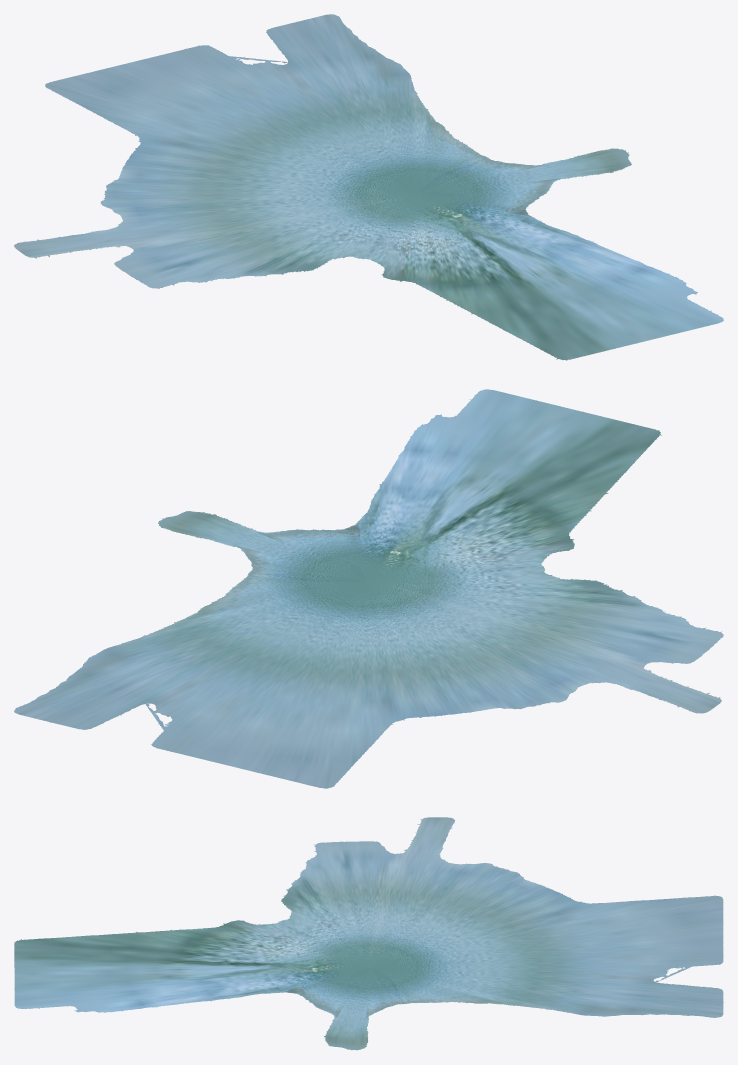
Rendered from water.glb.
3 views of the same model, one above another, from view 1: azimuth 30°, elevation 25°; view 2: azimuth 150°, elevation 25°; view 3: azimuth 270°, elevation 25° (orthographic). The views are drawn at different scales.
Parts seen in each view (by area): view 1: water; view 2: water; view 3: water.
Boxes of the visible parts, left/top/right/bottom form: water: left=14, top=14, right=723, bottom=360; water: left=14, top=389, right=723, bottom=788; water: left=14, top=817, right=723, bottom=1050.
Size of the model in its own units: 306 by 2.04e-13 by 393.
1 material, 1 textured.
